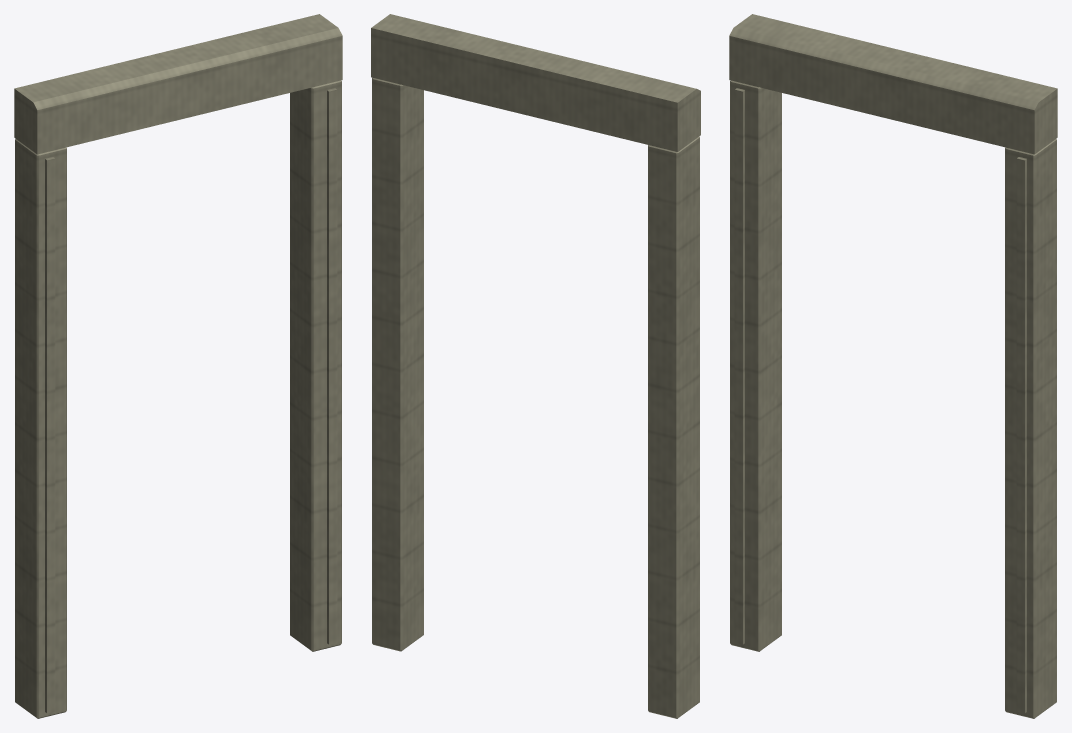
Rendered from residential-entry-surround.lod0.glb.
3 renders of one model, left to right at view 1: azimuth 30°, elevation 25°; view 2: azimuth 150°, elevation 25°; view 3: azimuth 330°, elevation 25°, orthographic.
Parts seen in each view (by area): view 1: residential-entry-surround; view 2: residential-entry-surround; view 3: residential-entry-surround.
Boxes of the visible parts, x1=… form: residential-entry-surround: x1=14, y1=14, x2=342, y2=718; residential-entry-surround: x1=371, y1=14, x2=700, y2=718; residential-entry-surround: x1=729, y1=14, x2=1057, y2=718.
Size of the model in its own units: 1.3 by 2.5 by 0.186.
1 material, 1 textured.
